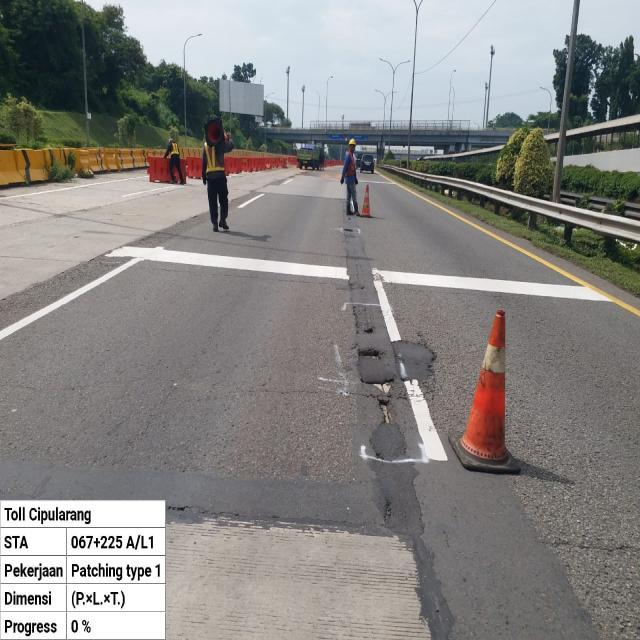Buraco: (358, 376, 397, 397), (374, 396, 399, 426), (354, 347, 388, 362), (360, 324, 379, 336), (342, 227, 355, 234)
